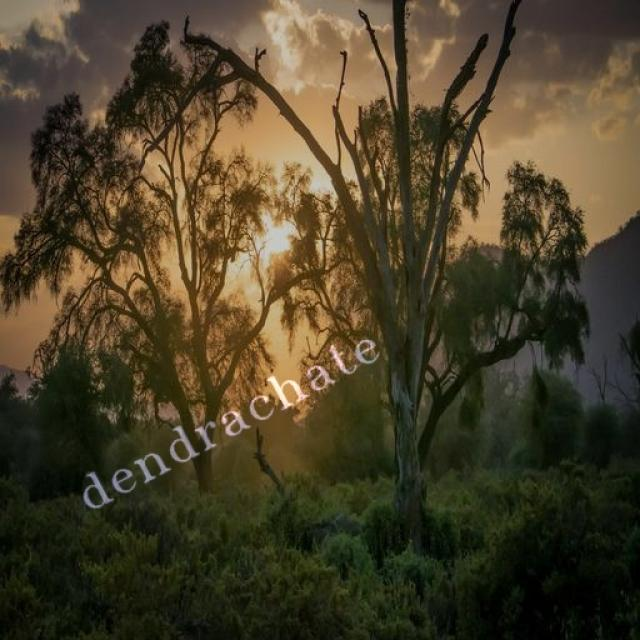watermark: (75, 318, 384, 522)
